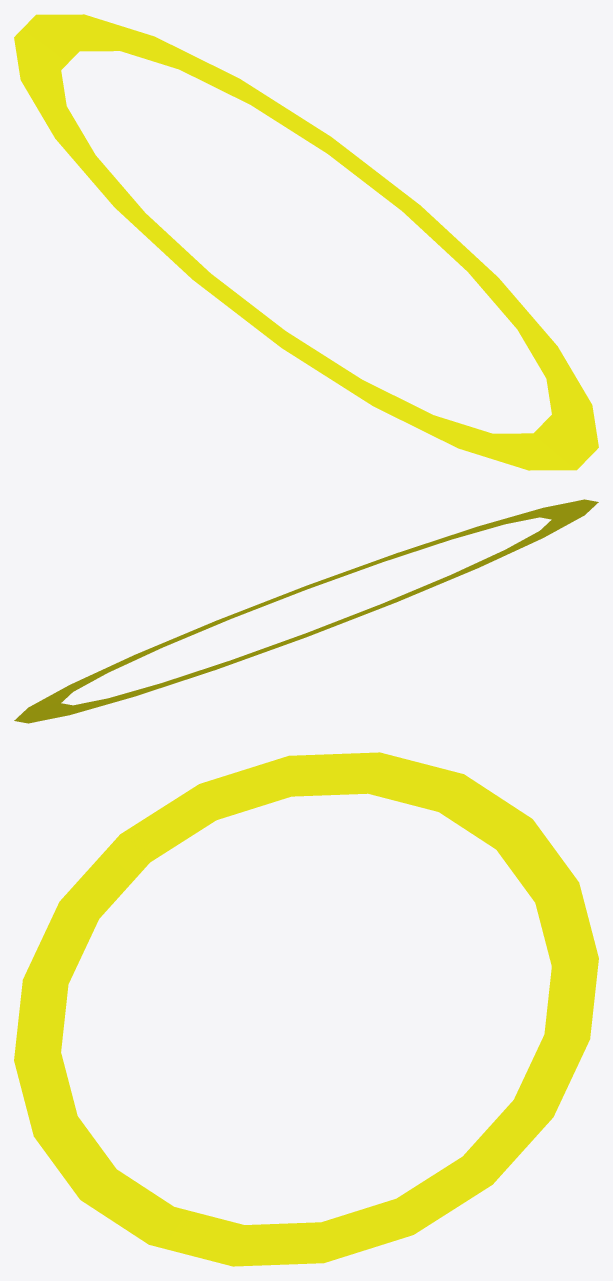
Rendered from RadialPulse.fbx.
The picture shows the model from 3 angles, top to bottom: view 1: azimuth 30°, elevation 25°; view 2: azimuth 150°, elevation 25°; view 3: azimuth 270°, elevation 25°; orthographic projection. The views are drawn at different scales.
Visible parts, largest first — view 1: CircleGeo; view 2: CircleGeo; view 3: CircleGeo.
Part boxes in pixels (x1,y1,x2,y2): CircleGeo: (14,14,598,470); CircleGeo: (14,499,598,723); CircleGeo: (14,752,598,1266).
Size of the model in its own units: 12.35 by 8.53 by 14.29.
